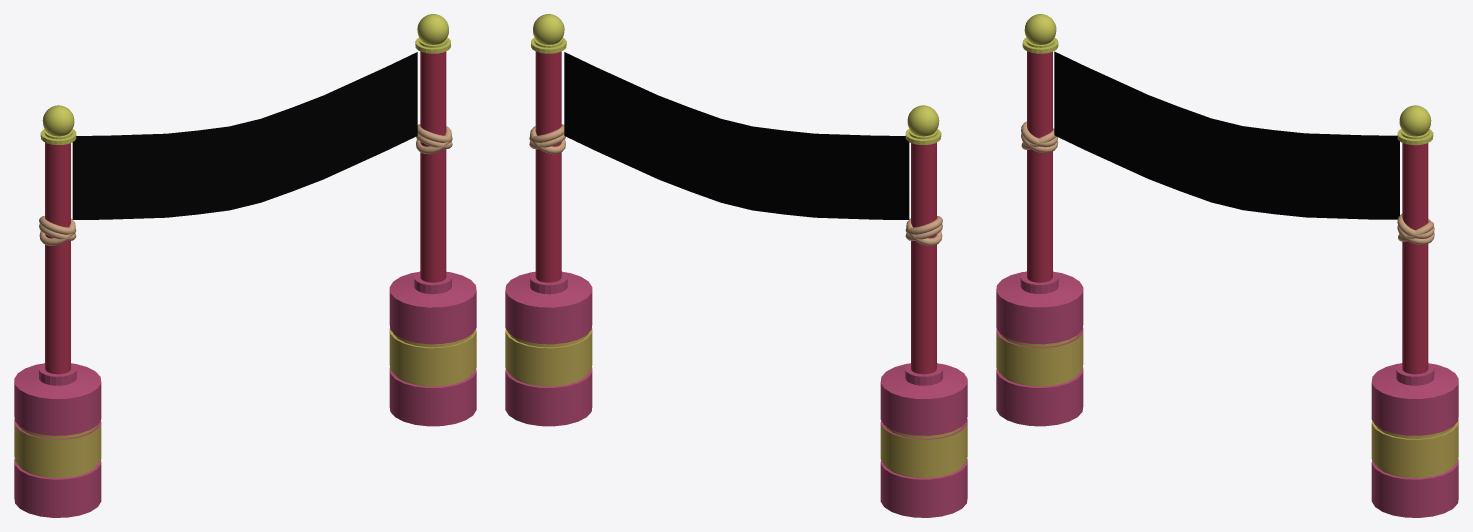
Rendered from Finish_Line.fbx.
The picture shows the model from 3 angles, left to right: view 1: azimuth 30°, elevation 25°; view 2: azimuth 150°, elevation 25°; view 3: azimuth 330°, elevation 25°; orthographic projection.
Parts seen in each view (by area): view 1: pPlane1, Finish_Line_Pylone02_msh, Finish_Line_Pylone01_msh, Finish_Line_Post02_msh, Finish_Line_Post01_msh, Finish_Line_Rope01_msh, Rope_Finish_Line02_msh; view 2: pPlane1, Finish_Line_Pylone02_msh, Finish_Line_Pylone01_msh, Finish_Line_Post02_msh, Finish_Line_Post01_msh, Finish_Line_Rope01_msh, Rope_Finish_Line02_msh; view 3: pPlane1, Finish_Line_Pylone02_msh, Finish_Line_Pylone01_msh, Finish_Line_Post02_msh, Finish_Line_Post01_msh, Rope_Finish_Line02_msh, Finish_Line_Rope01_msh.
Part boxes in pixels (left/top/right/bottom): pPlane1: left=72, top=52, right=417, bottom=219; Finish_Line_Pylone02_msh: left=389, top=271, right=476, bottom=426; Finish_Line_Pylone01_msh: left=14, top=363, right=101, bottom=517; Finish_Line_Post02_msh: left=415, top=14, right=450, bottom=282; Finish_Line_Post01_msh: left=40, top=105, right=76, bottom=374; Finish_Line_Rope01_msh: left=39, top=216, right=76, bottom=245; Rope_Finish_Line02_msh: left=416, top=124, right=452, bottom=154; pPlane1: left=564, top=52, right=909, bottom=219; Finish_Line_Pylone02_msh: left=505, top=271, right=592, bottom=426; Finish_Line_Pylone01_msh: left=880, top=363, right=967, bottom=517; Finish_Line_Post02_msh: left=531, top=14, right=566, bottom=282; Finish_Line_Post01_msh: left=905, top=105, right=941, bottom=374; Finish_Line_Rope01_msh: left=905, top=216, right=942, bottom=245; Rope_Finish_Line02_msh: left=529, top=124, right=565, bottom=154; pPlane1: left=1054, top=51, right=1399, bottom=219; Finish_Line_Pylone02_msh: left=1371, top=363, right=1458, bottom=517; Finish_Line_Pylone01_msh: left=996, top=271, right=1083, bottom=426; Finish_Line_Post02_msh: left=1397, top=105, right=1433, bottom=374; Finish_Line_Post01_msh: left=1022, top=14, right=1058, bottom=282; Rope_Finish_Line02_msh: left=1397, top=214, right=1434, bottom=244; Finish_Line_Rope01_msh: left=1021, top=121, right=1058, bottom=152.
Size of the model in its own units: 11.9 by 9.89 by 2.
